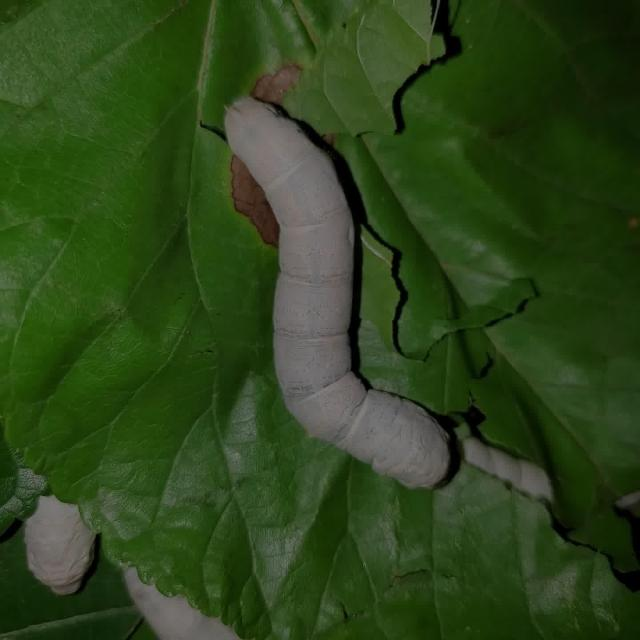Healthy: (205, 56, 456, 512)
